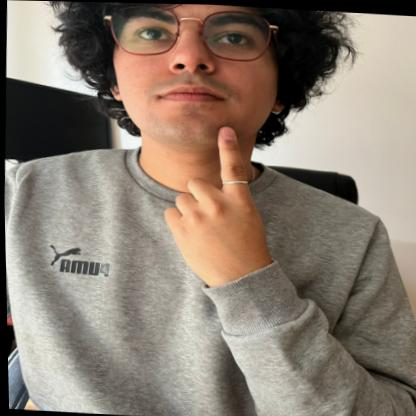T: (155, 119, 280, 288)
